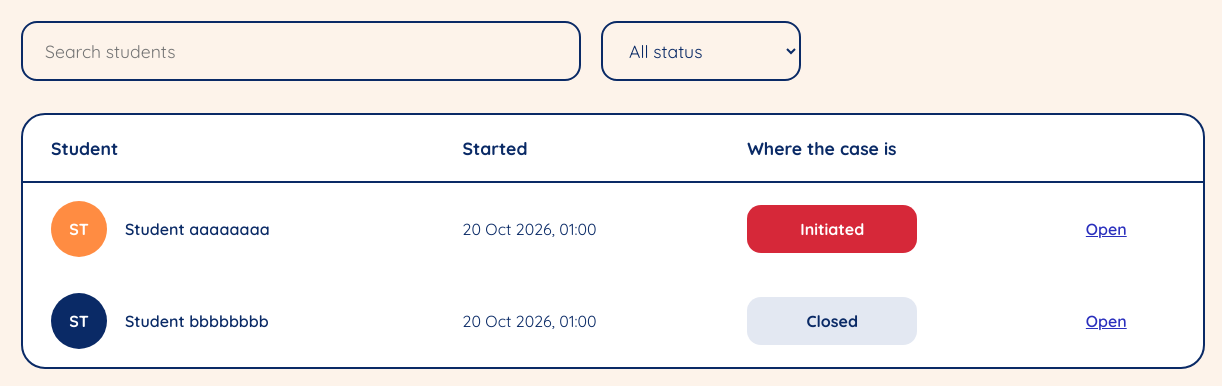
Scenario: CasesTable › tells the user when nothing matches
Type "zzzz" into the search field labelled "Search students" at (301, 51), box x1=21 y1=21 x2=581 y2=81
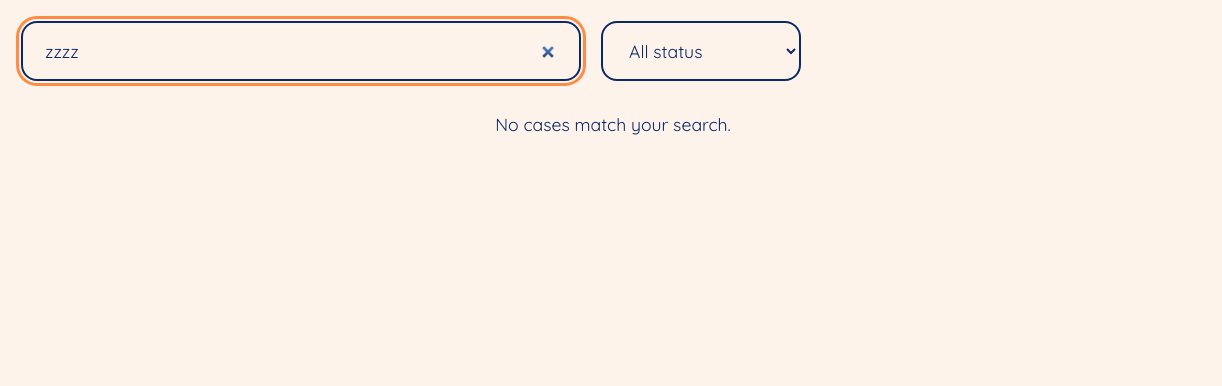
Check: the text "No cases match your search." is shown, box x1=495 y1=113 x2=731 y2=135
